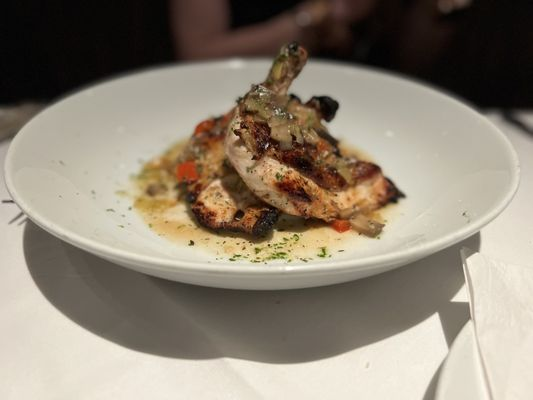curry: (5, 28, 527, 398)
